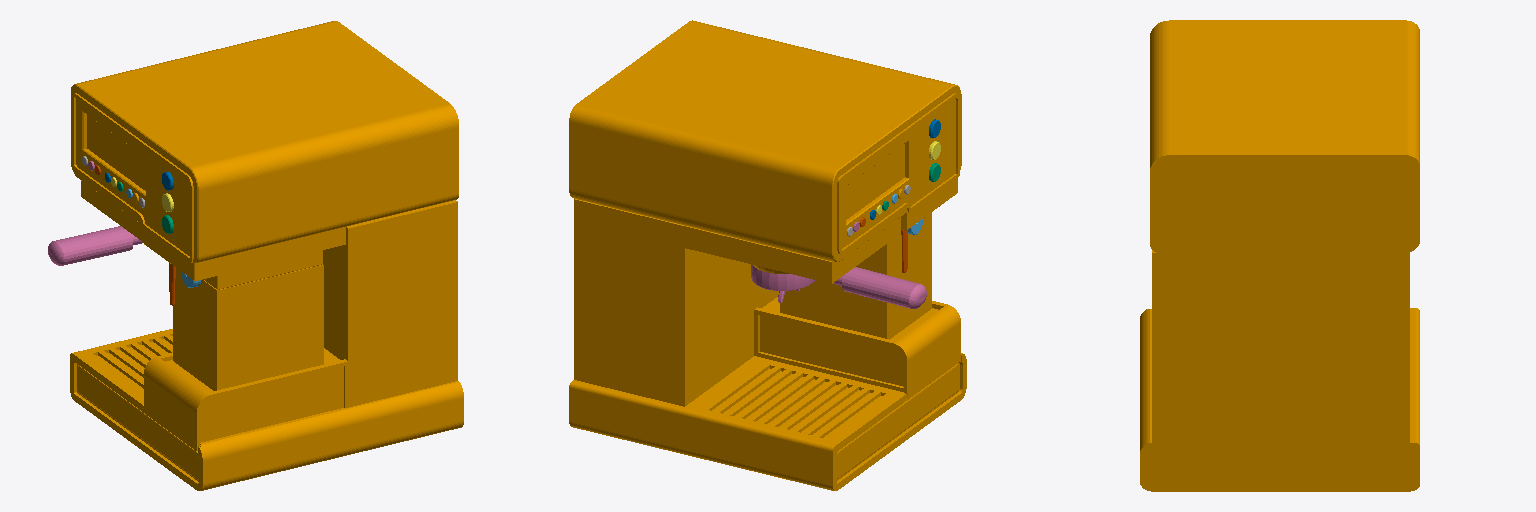
robot.urdf — partnet_64bc6e2a_63d2_44a3_a3ca_907796900279:
<?xml version='1.0' encoding='utf-8'?>
<robot name="partnet_64bc6e2a_63d2_44a3_a3ca_907796900279">
	<link name="base" />
	<link name="link_0">
		<visual name="knob_11">
			<origin xyz="-0.2681379098855239 -0.144322 0" />
			<geometry>
				<mesh filename="textured_objs_isaac/original_17.obj" />
			</geometry>
		</visual>
		<collision>
			<origin xyz="-0.2681379098855239 -0.144322 0" />
			<geometry>
				<mesh filename="textured_objs_isaac/original_17.obj" />
			</geometry>
		</collision>
	</link>
	<joint name="joint_0" type="continuous">
		<origin xyz="0.2681379098855239 0.144322 0" />
		<axis xyz="0 0 1" />
		<child link="link_0" />
		<parent link="link_15" />
	</joint>
	<link name="link_1">
		<visual name="knob_12">
			<origin xyz="-0.25933771414546697 -0.384801 0" />
			<geometry>
				<mesh filename="textured_objs_isaac/original_50.obj" />
			</geometry>
		</visual>
		<collision>
			<origin xyz="-0.25933771414546697 -0.384801 0" />
			<geometry>
				<mesh filename="textured_objs_isaac/original_50.obj" />
			</geometry>
		</collision>
	</link>
	<joint name="joint_1" type="continuous">
		<origin xyz="0.25933771414546697 0.384801 0" />
		<axis xyz="0 0 1" />
		<child link="link_1" />
		<parent link="link_15" />
	</joint>
	<link name="link_2">
		<visual name="knob_13">
			<origin xyz="-0.25933783825624923 -0.47934483825624924 0" />
			<geometry>
				<mesh filename="textured_objs_isaac/original_51.obj" />
			</geometry>
		</visual>
		<collision>
			<origin xyz="-0.25933783825624923 -0.47934483825624924 0" />
			<geometry>
				<mesh filename="textured_objs_isaac/original_51.obj" />
			</geometry>
		</collision>
	</link>
	<joint name="joint_2" type="continuous">
		<origin xyz="0.25933783825624923 0.47934483825624924 0" />
		<axis xyz="0 0 1" />
		<child link="link_2" />
		<parent link="link_15" />
	</joint>
	<link name="link_3">
		<visual name="knob_14">
			<origin xyz="-0.25933780190451805 -0.5733298856305807 0" />
			<geometry>
				<mesh filename="textured_objs_isaac/original_52.obj" />
			</geometry>
		</visual>
		<collision>
			<origin xyz="-0.25933780190451805 -0.5733298856305807 0" />
			<geometry>
				<mesh filename="textured_objs_isaac/original_52.obj" />
			</geometry>
		</collision>
	</link>
	<joint name="joint_3" type="continuous">
		<origin xyz="0.25933780190451805 0.5733298856305807 0" />
		<axis xyz="0 0 1" />
		<child link="link_3" />
		<parent link="link_15" />
	</joint>
	<link name="link_4">
		<visual name="knob_25">
			<origin xyz="-0.16216417498097713 -0.15836158958464766 -0.5327349999999993" />
			<geometry>
				<mesh filename="textured_objs_isaac/original_16.obj" />
			</geometry>
		</visual>
		<collision>
			<origin xyz="-0.16216417498097713 -0.15836158958464766 -0.5327349999999993" />
			<geometry>
				<mesh filename="textured_objs_isaac/original_16.obj" />
			</geometry>
		</collision>
	</link>
	<joint name="joint_4" type="revolute">
		<origin xyz="0.16216417498097713 0.15836158958464766 0.5327349999999993" />
		<axis xyz="0 0 -1" />
		<child link="link_4" />
		<parent link="link_15" />
		<limit lower="-0.767944870877505" upper="1.5707963267948966" />
	</joint>
	<link name="link_5">
		<visual name="container_36">
			<origin xyz="0.225338 0 -0.2089295" />
			<geometry>
				<mesh filename="textured_objs_isaac/original_4.obj" />
			</geometry>
		</visual>
		<visual name="container_36">
			<origin xyz="0.225338 0 -0.2089295" />
			<geometry>
				<mesh filename="textured_objs_isaac/original_5.obj" />
			</geometry>
		</visual>
		<visual name="container_36">
			<origin xyz="0.225338 0 -0.2089295" />
			<geometry>
				<mesh filename="textured_objs_isaac/original_9.obj" />
			</geometry>
		</visual>
		<visual name="container_36">
			<origin xyz="0.225338 0 -0.2089295" />
			<geometry>
				<mesh filename="textured_objs_isaac/original_6.obj" />
			</geometry>
		</visual>
		<visual name="container_36">
			<origin xyz="0.225338 0 -0.2089295" />
			<geometry>
				<mesh filename="textured_objs_isaac/original_10.obj" />
			</geometry>
		</visual>
		<collision>
			<origin xyz="0.225338 0 -0.2089295" />
			<geometry>
				<mesh filename="textured_objs_isaac/original_4.obj" />
			</geometry>
		</collision>
		<collision>
			<origin xyz="0.225338 0 -0.2089295" />
			<geometry>
				<mesh filename="textured_objs_isaac/original_5.obj" />
			</geometry>
		</collision>
		<collision>
			<origin xyz="0.225338 0 -0.2089295" />
			<geometry>
				<mesh filename="textured_objs_isaac/original_9.obj" />
			</geometry>
		</collision>
		<collision>
			<origin xyz="0.225338 0 -0.2089295" />
			<geometry>
				<mesh filename="textured_objs_isaac/original_6.obj" />
			</geometry>
		</collision>
		<collision>
			<origin xyz="0.225338 0 -0.2089295" />
			<geometry>
				<mesh filename="textured_objs_isaac/original_10.obj" />
			</geometry>
		</collision>
	</link>
	<joint name="joint_5" type="revolute">
		<origin xyz="-0.225338 0 0.2089295" />
		<axis xyz="0 -1 0" />
		<child link="link_5" />
		<parent link="link_15" />
		<limit lower="-0.722566310325652" upper="2.2242475987415733" />
	</joint>
	<link name="link_6">
		<visual name="button_38">
			<origin xyz="0 0 0" />
			<geometry>
				<mesh filename="textured_objs_isaac/original_64.obj" />
			</geometry>
		</visual>
		<collision>
			<origin xyz="0 0 0" />
			<geometry>
				<mesh filename="textured_objs_isaac/original_64.obj" />
			</geometry>
		</collision>
	</link>
	<joint name="joint_6" type="prismatic">
		<origin xyz="0 0 0" />
		<axis xyz="0 0 -1" />
		<child link="link_6" />
		<parent link="link_15" />
		<limit lower="0" upper="0.008000000000000007" />
	</joint>
	<link name="link_7">
		<visual name="button_39">
			<origin xyz="0 0 0" />
			<geometry>
				<mesh filename="textured_objs_isaac/original_63.obj" />
			</geometry>
		</visual>
		<collision>
			<origin xyz="0 0 0" />
			<geometry>
				<mesh filename="textured_objs_isaac/original_63.obj" />
			</geometry>
		</collision>
	</link>
	<joint name="joint_7" type="prismatic">
		<origin xyz="0 0 0" />
		<axis xyz="0 0 -1" />
		<child link="link_7" />
		<parent link="link_15" />
		<limit lower="0" upper="0.008000000000000007" />
	</joint>
	<link name="link_8">
		<visual name="button_40">
			<origin xyz="0 0 0" />
			<geometry>
				<mesh filename="textured_objs_isaac/original_62.obj" />
			</geometry>
		</visual>
		<collision>
			<origin xyz="0 0 0" />
			<geometry>
				<mesh filename="textured_objs_isaac/original_62.obj" />
			</geometry>
		</collision>
	</link>
	<joint name="joint_8" type="prismatic">
		<origin xyz="0 0 0" />
		<axis xyz="0 0 -1" />
		<child link="link_8" />
		<parent link="link_15" />
		<limit lower="0" upper="0.008000000000000007" />
	</joint>
	<link name="link_9">
		<visual name="button_41">
			<origin xyz="0 0 0" />
			<geometry>
				<mesh filename="textured_objs_isaac/original_60.obj" />
			</geometry>
		</visual>
		<collision>
			<origin xyz="0 0 0" />
			<geometry>
				<mesh filename="textured_objs_isaac/original_60.obj" />
			</geometry>
		</collision>
	</link>
	<joint name="joint_9" type="prismatic">
		<origin xyz="0 0 0" />
		<axis xyz="0 0 -1" />
		<child link="link_9" />
		<parent link="link_15" />
		<limit lower="0" upper="0.008000000000000007" />
	</joint>
	<link name="link_10">
		<visual name="button_42">
			<origin xyz="0 0 0" />
			<geometry>
				<mesh filename="textured_objs_isaac/original_59.obj" />
			</geometry>
		</visual>
		<collision>
			<origin xyz="0 0 0" />
			<geometry>
				<mesh filename="textured_objs_isaac/original_59.obj" />
			</geometry>
		</collision>
	</link>
	<joint name="joint_10" type="prismatic">
		<origin xyz="0 0 0" />
		<axis xyz="0 0 -1" />
		<child link="link_10" />
		<parent link="link_15" />
		<limit lower="0" upper="0.008000000000000007" />
	</joint>
	<link name="link_11">
		<visual name="button_43">
			<origin xyz="0 0 0" />
			<geometry>
				<mesh filename="textured_objs_isaac/original_58.obj" />
			</geometry>
		</visual>
		<collision>
			<origin xyz="0 0 0" />
			<geometry>
				<mesh filename="textured_objs_isaac/original_58.obj" />
			</geometry>
		</collision>
	</link>
	<joint name="joint_11" type="prismatic">
		<origin xyz="0 0 0" />
		<axis xyz="0 0 -1" />
		<child link="link_11" />
		<parent link="link_15" />
		<limit lower="0" upper="0.008000000000000007" />
	</joint>
	<link name="link_12">
		<visual name="button_44">
			<origin xyz="0 0 0" />
			<geometry>
				<mesh filename="textured_objs_isaac/original_56.obj" />
			</geometry>
		</visual>
		<collision>
			<origin xyz="0 0 0" />
			<geometry>
				<mesh filename="textured_objs_isaac/original_56.obj" />
			</geometry>
		</collision>
	</link>
	<joint name="joint_12" type="prismatic">
		<origin xyz="0 0 0" />
		<axis xyz="0 0 -1" />
		<child link="link_12" />
		<parent link="link_15" />
		<limit lower="0" upper="0.008000000000000007" />
	</joint>
	<link name="link_13">
		<visual name="button_45">
			<origin xyz="0 0 0" />
			<geometry>
				<mesh filename="textured_objs_isaac/original_55.obj" />
			</geometry>
		</visual>
		<collision>
			<origin xyz="0 0 0" />
			<geometry>
				<mesh filename="textured_objs_isaac/original_55.obj" />
			</geometry>
		</collision>
	</link>
	<joint name="joint_13" type="prismatic">
		<origin xyz="0 0 0" />
		<axis xyz="0 0 -1" />
		<child link="link_13" />
		<parent link="link_15" />
		<limit lower="0" upper="0.008000000000000007" />
	</joint>
	<link name="link_14">
		<visual name="button_46">
			<origin xyz="0 0 0" />
			<geometry>
				<mesh filename="textured_objs_isaac/original_54.obj" />
			</geometry>
		</visual>
		<collision>
			<origin xyz="0 0 0" />
			<geometry>
				<mesh filename="textured_objs_isaac/original_54.obj" />
			</geometry>
		</collision>
	</link>
	<joint name="joint_14" type="prismatic">
		<origin xyz="0 0 0" />
		<axis xyz="0 0 -1" />
		<child link="link_14" />
		<parent link="link_15" />
		<limit lower="0" upper="0.008000000000000007" />
	</joint>
	<link name="link_15">
		<visual name="base_body_48">
			<origin xyz="0 0 0" />
			<geometry>
				<mesh filename="textured_objs_isaac/original_29.obj" />
			</geometry>
		</visual>
		<visual name="base_body_48">
			<origin xyz="0 0 0" />
			<geometry>
				<mesh filename="textured_objs_isaac/original_30.obj" />
			</geometry>
		</visual>
		<visual name="base_body_48">
			<origin xyz="0 0 0" />
			<geometry>
				<mesh filename="textured_objs_isaac/original_36.obj" />
			</geometry>
		</visual>
		<visual name="base_body_48">
			<origin xyz="0 0 0" />
			<geometry>
				<mesh filename="textured_objs_isaac/original_41.obj" />
			</geometry>
		</visual>
		<visual name="base_body_48">
			<origin xyz="0 0 0" />
			<geometry>
				<mesh filename="textured_objs_isaac/original_43.obj" />
			</geometry>
		</visual>
		<visual name="base_body_48">
			<origin xyz="0 0 0" />
			<geometry>
				<mesh filename="textured_objs_isaac/original_22.obj" />
			</geometry>
		</visual>
		<visual name="base_body_48">
			<origin xyz="0 0 0" />
			<geometry>
				<mesh filename="textured_objs_isaac/original_26.obj" />
			</geometry>
		</visual>
		<visual name="base_body_48">
			<origin xyz="0 0 0" />
			<geometry>
				<mesh filename="textured_objs_isaac/original_65.obj" />
			</geometry>
		</visual>
		<visual name="base_body_48">
			<origin xyz="0 0 0" />
			<geometry>
				<mesh filename="textured_objs_isaac/original_33.obj" />
			</geometry>
		</visual>
		<visual name="base_body_48">
			<origin xyz="0 0 0" />
			<geometry>
				<mesh filename="textured_objs_isaac/original_44.obj" />
			</geometry>
		</visual>
		<visual name="base_body_48">
			<origin xyz="0 0 0" />
			<geometry>
				<mesh filename="textured_objs_isaac/original_8.obj" />
			</geometry>
		</visual>
		<visual name="base_body_48">
			<origin xyz="0 0 0" />
			<geometry>
				<mesh filename="textured_objs_isaac/original_45.obj" />
			</geometry>
		</visual>
		<visual name="base_body_48">
			<origin xyz="0 0 0" />
			<geometry>
				<mesh filename="textured_objs_isaac/original_35.obj" />
			</geometry>
		</visual>
		<visual name="base_body_48">
			<origin xyz="0 0 0" />
			<geometry>
				<mesh filename="textured_objs_isaac/original_39.obj" />
			</geometry>
		</visual>
		<visual name="base_body_48">
			<origin xyz="0 0 0" />
			<geometry>
				<mesh filename="textured_objs_isaac/original_27.obj" />
			</geometry>
		</visual>
		<visual name="base_body_48">
			<origin xyz="0 0 0" />
			<geometry>
				<mesh filename="textured_objs_isaac/original_31.obj" />
			</geometry>
		</visual>
		<visual name="base_body_48">
			<origin xyz="0 0 0" />
			<geometry>
				<mesh filename="textured_objs_isaac/original_37.obj" />
			</geometry>
		</visual>
		<visual name="base_body_48">
			<origin xyz="0 0 0" />
			<geometry>
				<mesh filename="textured_objs_isaac/original_48.obj" />
			</geometry>
		</visual>
		<visual name="base_body_48">
			<origin xyz="0 0 0" />
			<geometry>
				<mesh filename="textured_objs_isaac/original_23.obj" />
			</geometry>
		</visual>
		<visual name="base_body_48">
			<origin xyz="0 0 0" />
			<geometry>
				<mesh filename="textured_objs_isaac/original_67.obj" />
			</geometry>
		</visual>
		<visual name="base_body_48">
			<origin xyz="0 0 0" />
			<geometry>
				<mesh filename="textured_objs_isaac/original_38.obj" />
			</geometry>
		</visual>
		<visual name="base_body_48">
			<origin xyz="0 0 0" />
			<geometry>
				<mesh filename="textured_objs_isaac/original_68.obj" />
			</geometry>
		</visual>
		<visual name="base_body_48">
			<origin xyz="0 0 0" />
			<geometry>
				<mesh filename="textured_objs_isaac/original_34.obj" />
			</geometry>
		</visual>
		<visual name="base_body_48">
			<origin xyz="0 0 0" />
			<geometry>
				<mesh filename="textured_objs_isaac/original_42.obj" />
			</geometry>
		</visual>
		<visual name="base_body_48">
			<origin xyz="0 0 0" />
			<geometry>
				<mesh filename="textured_objs_isaac/original_20.obj" />
			</geometry>
		</visual>
		<visual name="base_body_48">
			<origin xyz="0 0 0" />
			<geometry>
				<mesh filename="textured_objs_isaac/original_32.obj" />
			</geometry>
		</visual>
		<visual name="base_body_48">
			<origin xyz="0 0 0" />
			<geometry>
				<mesh filename="textured_objs_isaac/original_47.obj" />
			</geometry>
		</visual>
		<visual name="base_body_48">
			<origin xyz="0 0 0" />
			<geometry>
				<mesh filename="textured_objs_isaac/original_40.obj" />
			</geometry>
		</visual>
		<visual name="base_body_48">
			<origin xyz="0 0 0" />
			<geometry>
				<mesh filename="textured_objs_isaac/original_46.obj" />
			</geometry>
		</visual>
		<collision>
			<origin xyz="0 0 0" />
			<geometry>
				<mesh filename="textured_objs_isaac/original_29.obj" />
			</geometry>
		</collision>
		<collision>
			<origin xyz="0 0 0" />
			<geometry>
				<mesh filename="textured_objs_isaac/original_30.obj" />
			</geometry>
		</collision>
		<collision>
			<origin xyz="0 0 0" />
			<geometry>
				<mesh filename="textured_objs_isaac/original_36.obj" />
			</geometry>
		</collision>
		<collision>
			<origin xyz="0 0 0" />
			<geometry>
				<mesh filename="textured_objs_isaac/original_41.obj" />
			</geometry>
		</collision>
		<collision>
			<origin xyz="0 0 0" />
			<geometry>
				<mesh filename="textured_objs_isaac/original_43.obj" />
			</geometry>
		</collision>
		<collision>
			<origin xyz="0 0 0" />
			<geometry>
				<mesh filename="textured_objs_isaac/original_22.obj" />
			</geometry>
		</collision>
		<collision>
			<origin xyz="0 0 0" />
			<geometry>
				<mesh filename="textured_objs_isaac/original_26.obj" />
			</geometry>
		</collision>
		<collision>
			<origin xyz="0 0 0" />
			<geometry>
				<mesh filename="textured_objs_isaac/original_65.obj" />
			</geometry>
		</collision>
		<collision>
			<origin xyz="0 0 0" />
			<geometry>
				<mesh filename="textured_objs_isaac/original_33.obj" />
			</geometry>
		</collision>
		<collision>
			<origin xyz="0 0 0" />
			<geometry>
				<mesh filename="textured_objs_isaac/original_44.obj" />
			</geometry>
		</collision>
		<collision>
			<origin xyz="0 0 0" />
			<geometry>
				<mesh filename="textured_objs_isaac/original_8.obj" />
			</geometry>
		</collision>
		<collision>
			<origin xyz="0 0 0" />
			<geometry>
				<mesh filename="textured_objs_isaac/original_45.obj" />
			</geometry>
		</collision>
		<collision>
			<origin xyz="0 0 0" />
			<geometry>
				<mesh filename="textured_objs_isaac/original_35.obj" />
			</geometry>
		</collision>
		<collision>
			<origin xyz="0 0 0" />
			<geometry>
				<mesh filename="textured_objs_isaac/original_39.obj" />
			</geometry>
		</collision>
		<collision>
			<origin xyz="0 0 0" />
			<geometry>
				<mesh filename="textured_objs_isaac/original_27.obj" />
			</geometry>
		</collision>
		<collision>
			<origin xyz="0 0 0" />
			<geometry>
				<mesh filename="textured_objs_isaac/original_31.obj" />
			</geometry>
		</collision>
		<collision>
			<origin xyz="0 0 0" />
			<geometry>
				<mesh filename="textured_objs_isaac/original_37.obj" />
			</geometry>
		</collision>
		<collision>
			<origin xyz="0 0 0" />
			<geometry>
				<mesh filename="textured_objs_isaac/original_48.obj" />
			</geometry>
		</collision>
		<collision>
			<origin xyz="0 0 0" />
			<geometry>
				<mesh filename="textured_objs_isaac/original_23.obj" />
			</geometry>
		</collision>
		<collision>
			<origin xyz="0 0 0" />
			<geometry>
				<mesh filename="textured_objs_isaac/original_67.obj" />
			</geometry>
		</collision>
		<collision>
			<origin xyz="0 0 0" />
			<geometry>
				<mesh filename="textured_objs_isaac/original_38.obj" />
			</geometry>
		</collision>
		<collision>
			<origin xyz="0 0 0" />
			<geometry>
				<mesh filename="textured_objs_isaac/original_68.obj" />
			</geometry>
		</collision>
		<collision>
			<origin xyz="0 0 0" />
			<geometry>
				<mesh filename="textured_objs_isaac/original_34.obj" />
			</geometry>
		</collision>
		<collision>
			<origin xyz="0 0 0" />
			<geometry>
				<mesh filename="textured_objs_isaac/original_42.obj" />
			</geometry>
		</collision>
		<collision>
			<origin xyz="0 0 0" />
			<geometry>
				<mesh filename="textured_objs_isaac/original_20.obj" />
			</geometry>
		</collision>
		<collision>
			<origin xyz="0 0 0" />
			<geometry>
				<mesh filename="textured_objs_isaac/original_32.obj" />
			</geometry>
		</collision>
		<collision>
			<origin xyz="0 0 0" />
			<geometry>
				<mesh filename="textured_objs_isaac/original_47.obj" />
			</geometry>
		</collision>
		<collision>
			<origin xyz="0 0 0" />
			<geometry>
				<mesh filename="textured_objs_isaac/original_40.obj" />
			</geometry>
		</collision>
		<collision>
			<origin xyz="0 0 0" />
			<geometry>
				<mesh filename="textured_objs_isaac/original_46.obj" />
			</geometry>
		</collision>
	</link>
	<joint name="joint_15" type="fixed">
		<origin rpy="1.570796326794897 0 -1.570796326794897" xyz="0 0 0" />
		<child link="link_15" />
		<parent link="base" />
	</joint>
</robot>

--- Facts derived from the render (not from the file) ---
Views: 3 orthographic renders of the robot side by side, from view 1: azimuth 30°, elevation 25°; view 2: azimuth 150°, elevation 25°; view 3: azimuth 270°, elevation 25°.
Robot: partnet_64bc6e2a_63d2_44a3_a3ca_907796900279 — 17 links, 16 joints (2 revolute, 4 continuous, 9 prismatic, 1 fixed); root link base; default pose: all joints at 0.
Links seen in each view (by area): view 1: link_15, link_5; view 2: link_15, link_5; view 3: link_15.
Boxes of the visible links, x1=… form: link_15: x1=70, y1=21, x2=463, y2=490; link_5: x1=48, y1=226, x2=142, y2=265; link_15: x1=569, y1=20, x2=966, y2=490; link_5: x1=751, y1=264, x2=926, y2=308; link_15: x1=1140, y1=20, x2=1419, y2=491.
Bounding box of the posed robot: 1.43 × 1.04 × 1.38 m (x, y, z).
48 mesh visuals loaded from 48 distinct referenced files (48 OBJ).
